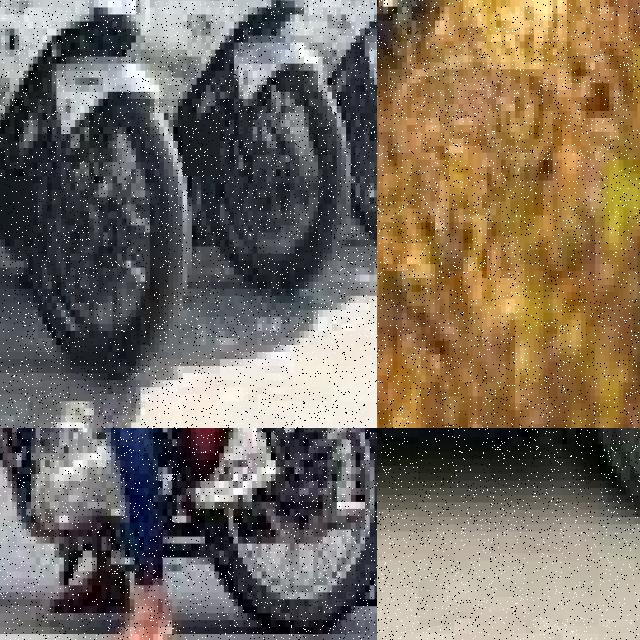bike: (0, 428, 377, 640), (0, 0, 196, 394), (159, 0, 350, 331), (377, 0, 487, 375), (313, 0, 377, 246)
car: (377, 428, 640, 517)
